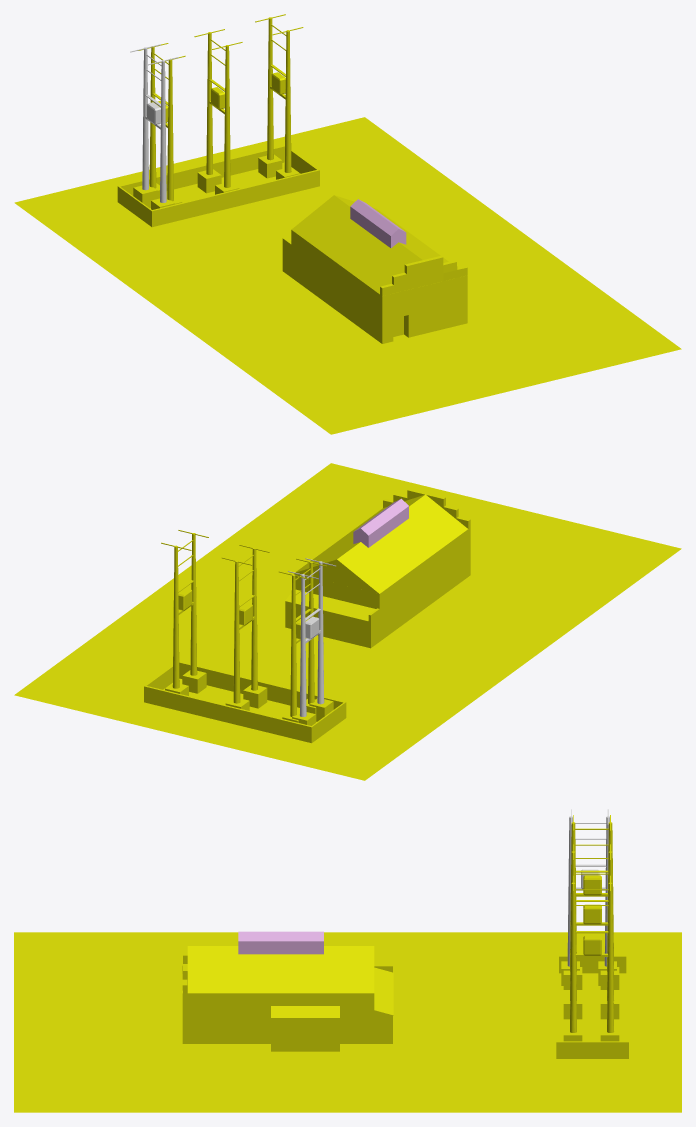
Rendered from PowerPlant.glb.
The picture shows the model from 3 angles, top to bottom: view 1: azimuth 30°, elevation 25°; view 2: azimuth 150°, elevation 25°; view 3: azimuth 270°, elevation 25°; orthographic projection. The views are drawn at different scales.
Visible parts, largest first — view 1: Lot, Main, Fence, TransformerPowerPole_1.001, TransformerPowerPole_1.002, TransformerPowerPole_1, Facade, Skylight, Pole2, Pole1; view 2: Lot, Main, Fence, Extensions, TransformerPowerPole_1.001, TransformerPowerPole_1.002, TransformerPowerPole_1, Skylight, Pole1, Pole2, Facade; view 3: Lot, Main, Extensions, TransformerPowerPole_1.002, Fence, Skylight, TransformerPowerPole_1.001, TransformerPowerPole_1, Pole2.
Boxes of the visible parts, x1,y1,x2,y2 form: Lot: [14, 117, 681, 434]; Main: [291, 195, 467, 343]; Fence: [117, 145, 319, 227]; TransformerPowerPole_1.001: [194, 29, 242, 194]; TransformerPowerPole_1.002: [255, 14, 303, 179]; TransformerPowerPole_1: [138, 43, 185, 204]; Facade: [380, 256, 467, 295]; Skylight: [350, 199, 406, 247]; Pole2: [160, 60, 166, 202]; Pole1: [142, 47, 148, 190]; Lot: [14, 463, 681, 780]; Main: [294, 494, 470, 641]; Fence: [144, 661, 346, 743]; Extensions: [285, 589, 379, 648]; TransformerPowerPole_1.001: [222, 544, 269, 710]; TransformerPowerPole_1.002: [161, 530, 208, 695]; TransformerPowerPole_1: [278, 558, 326, 722]; Skylight: [353, 498, 408, 547]; Pole1: [299, 574, 306, 716]; Pole2: [317, 561, 324, 704]; Facade: [383, 488, 470, 528]; Lot: [14, 932, 681, 1112]; Main: [182, 946, 374, 1043]; Extensions: [271, 965, 393, 1051]; TransformerPowerPole_1.002: [563, 875, 619, 1041]; Fence: [556, 956, 628, 1058]; Skylight: [238, 931, 323, 954]; TransformerPowerPole_1.001: [563, 844, 619, 1019]; TransformerPowerPole_1: [563, 815, 619, 989]; Pole2: [567, 816, 572, 966].
Bounding box in the file's own units: 46 × 19.83 × 72.
